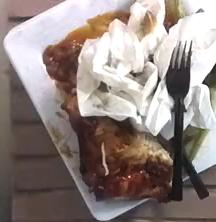beans: (42, 31, 86, 95)
chicken: (73, 116, 173, 201)
green_beans: (183, 124, 209, 160)
